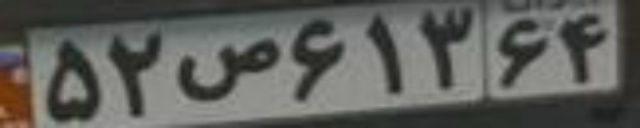1: (364, 13, 402, 94)
2: (107, 29, 163, 118)
3: (418, 6, 472, 88)
4: (559, 11, 605, 84)
5: (45, 41, 102, 119)
6: (290, 18, 344, 101), (491, 19, 547, 86)
saat: (174, 37, 279, 100)
